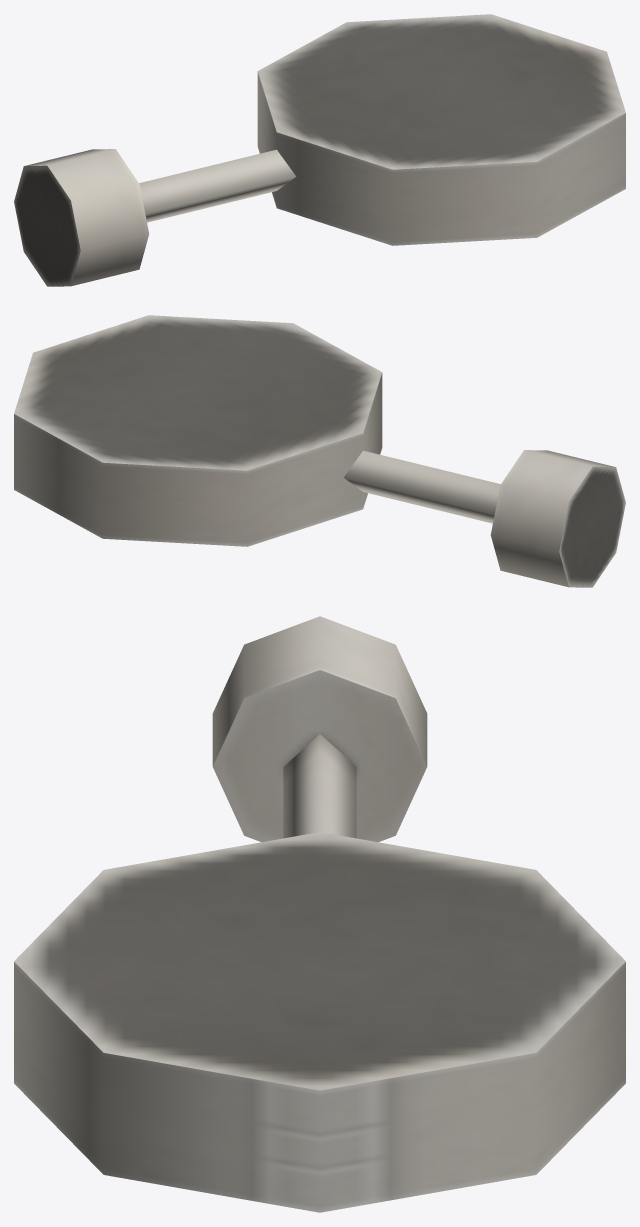
Rendered from set_trough_clasp.fbx.
3 views of the same model, one above another, from view 1: azimuth 30°, elevation 25°; view 2: azimuth 150°, elevation 25°; view 3: azimuth 270°, elevation 25° (orthographic). The views are drawn at different scales.
Parts seen in each view (by area): view 1: trough_clasp, prop; view 2: trough_clasp, prop; view 3: trough_clasp, prop.
Boxes of the visible parts, <box> form: trough_clasp: <box>257,14,625,245</box>; prop: <box>14,149,296,286</box>; trough_clasp: <box>14,315,382,546</box>; prop: <box>343,450,625,587</box>; trough_clasp: <box>14,832,625,1212</box>; prop: <box>212,616,427,842</box>.
Size of the model in its own units: 34.95 by 7.23 by 20.62.
